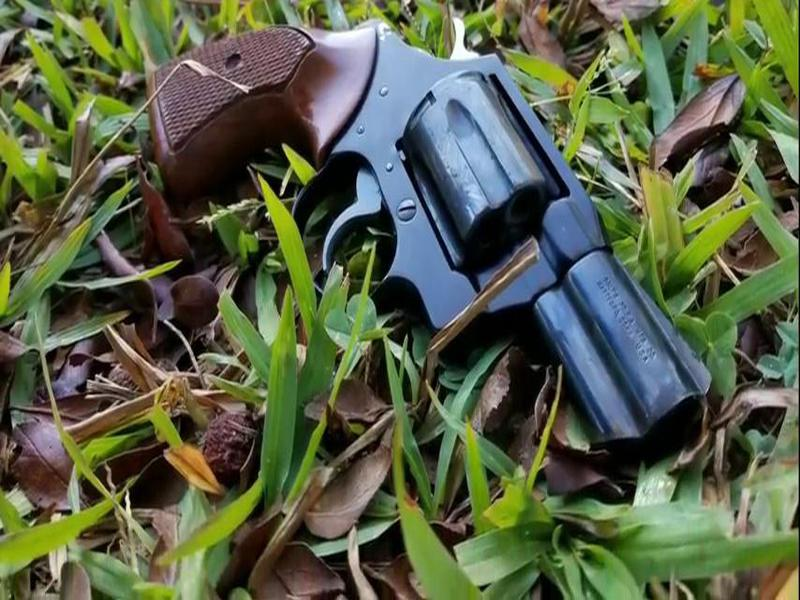Revolver: (122, 13, 726, 470)
